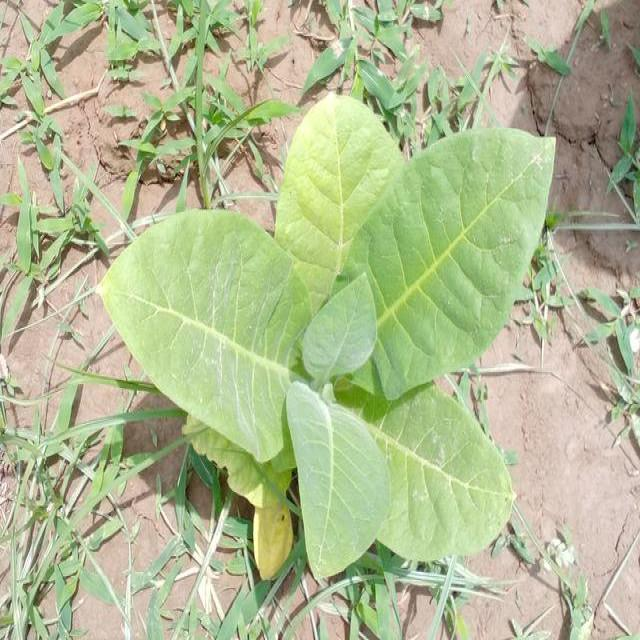crop: (92, 91, 553, 581)
